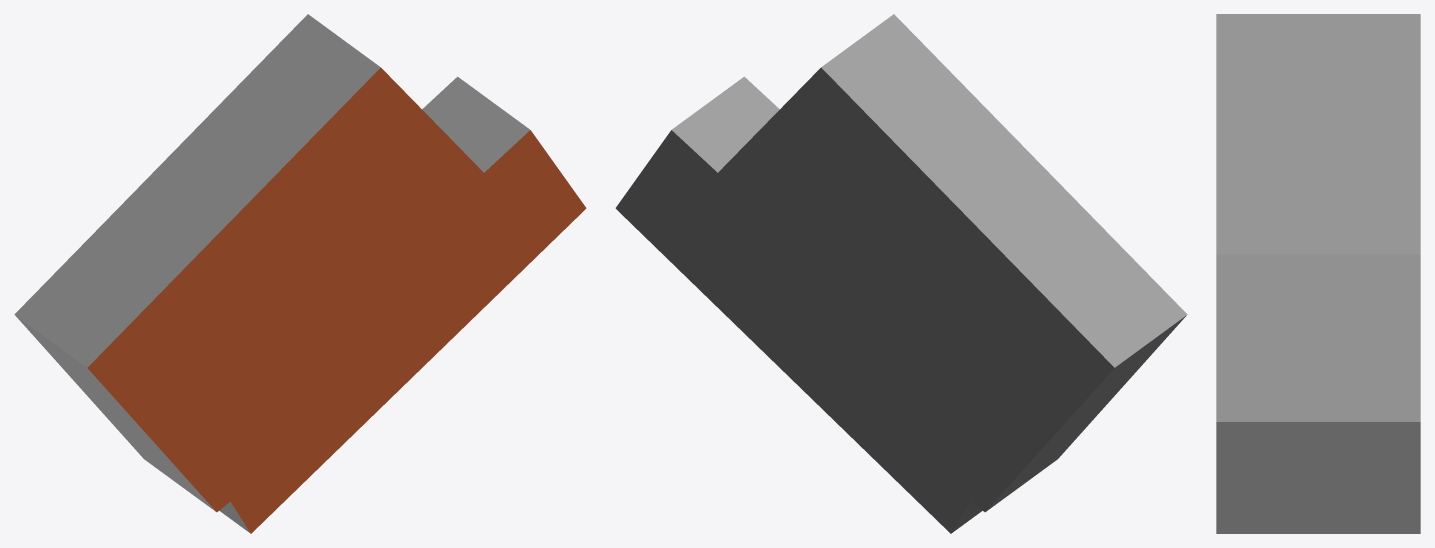
The model's file is construction_7044_assumed_A_Casa_h6m.obj.
3 views of the same model, side by side, from view 1: azimuth 30°, elevation 25°; view 2: azimuth 150°, elevation 25°; view 3: azimuth 270°, elevation 25° (orthographic). The views are drawn at different scales.
Visible parts, largest first — view 1: construction_7044_assumed_A_Casa; view 2: construction_7044_assumed_A_Casa; view 3: construction_7044_assumed_A_Casa.
Part boxes in pixels (x1,y1,x2,y2): construction_7044_assumed_A_Casa: [14, 14, 586, 533]; construction_7044_assumed_A_Casa: [615, 14, 1187, 533]; construction_7044_assumed_A_Casa: [1216, 14, 1420, 533].
Size of the model in its own units: 23.72 by 19.74 by 6.
